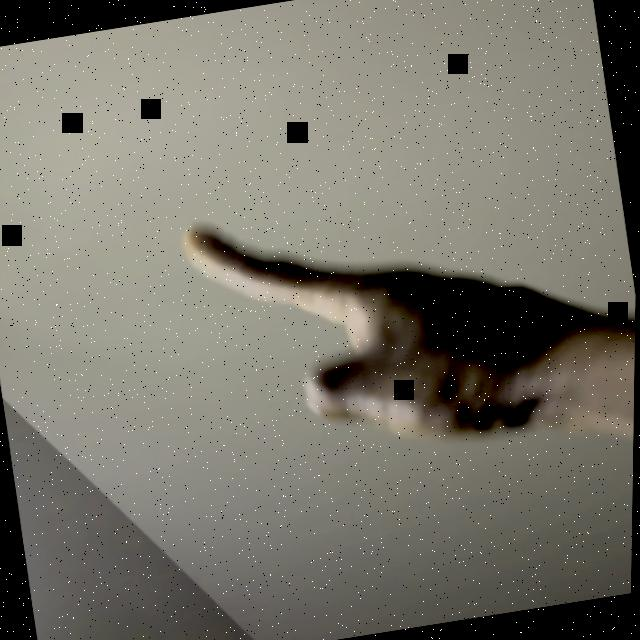Scissors: (173, 167, 592, 484)
